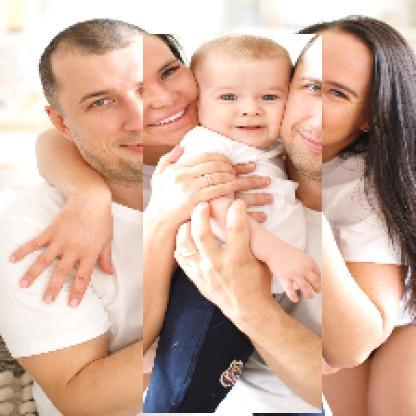child: (144, 35, 324, 415)
